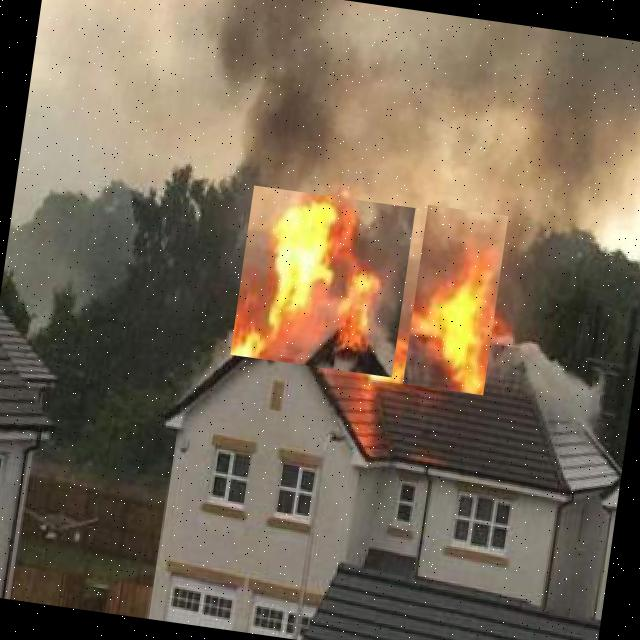fire: (230, 185, 416, 378), (403, 204, 508, 396)
